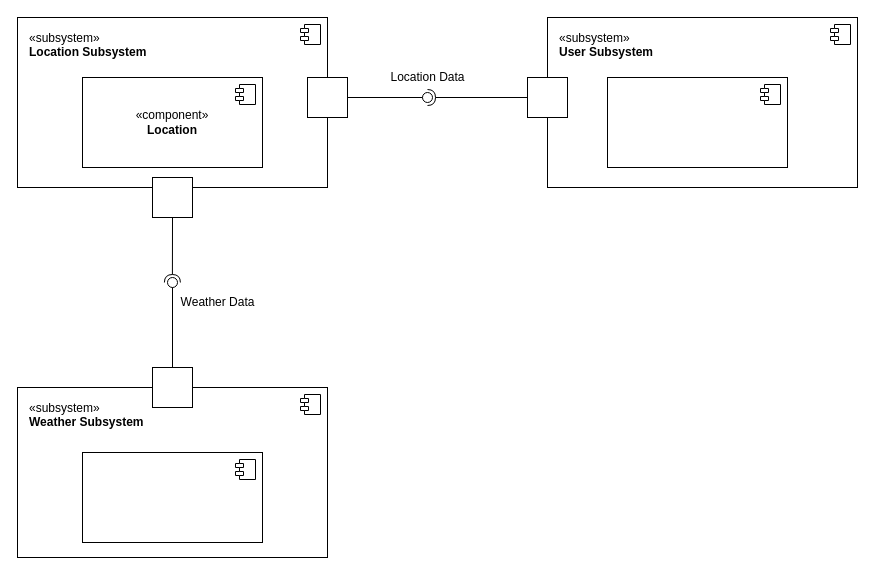
Some shapes in this 875 by 575 pixel diagram are drawn without their labels. Here are the shapes that lost their labels. From the top down, the box of each, then its label:
(606, 76, 788, 168): «component» User
(82, 452, 262, 542): «component» Weather
